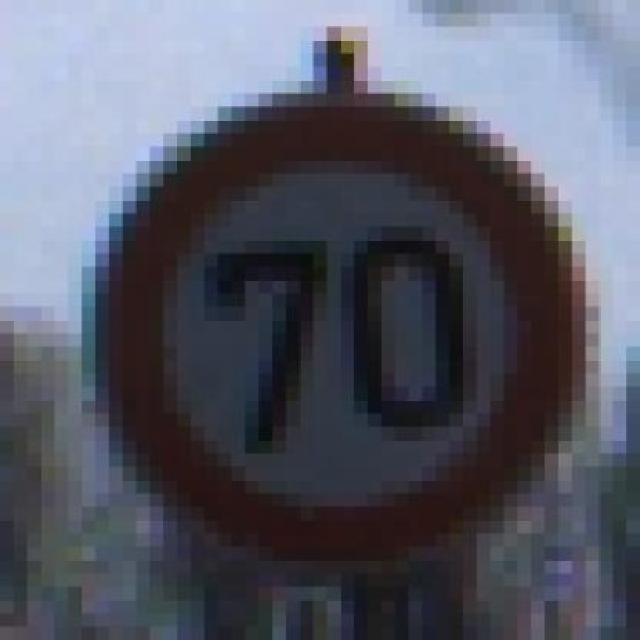forb_speed_over_70: (98, 100, 571, 558)
